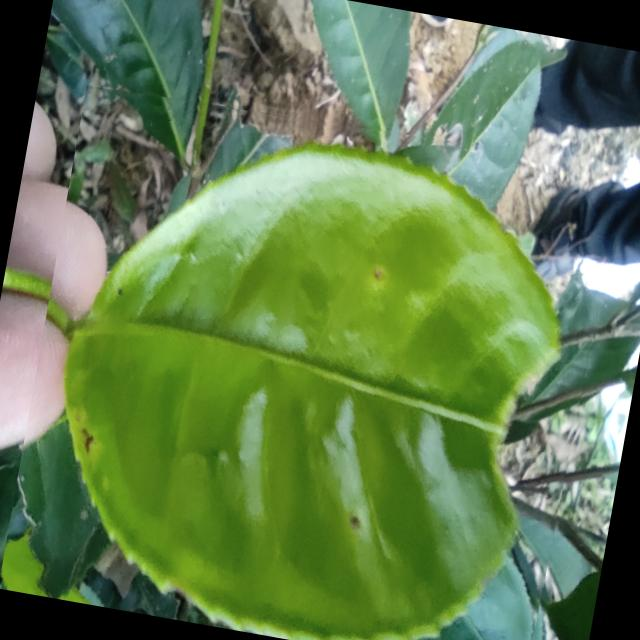Category C(4-7 days): (0, 73, 625, 640)
